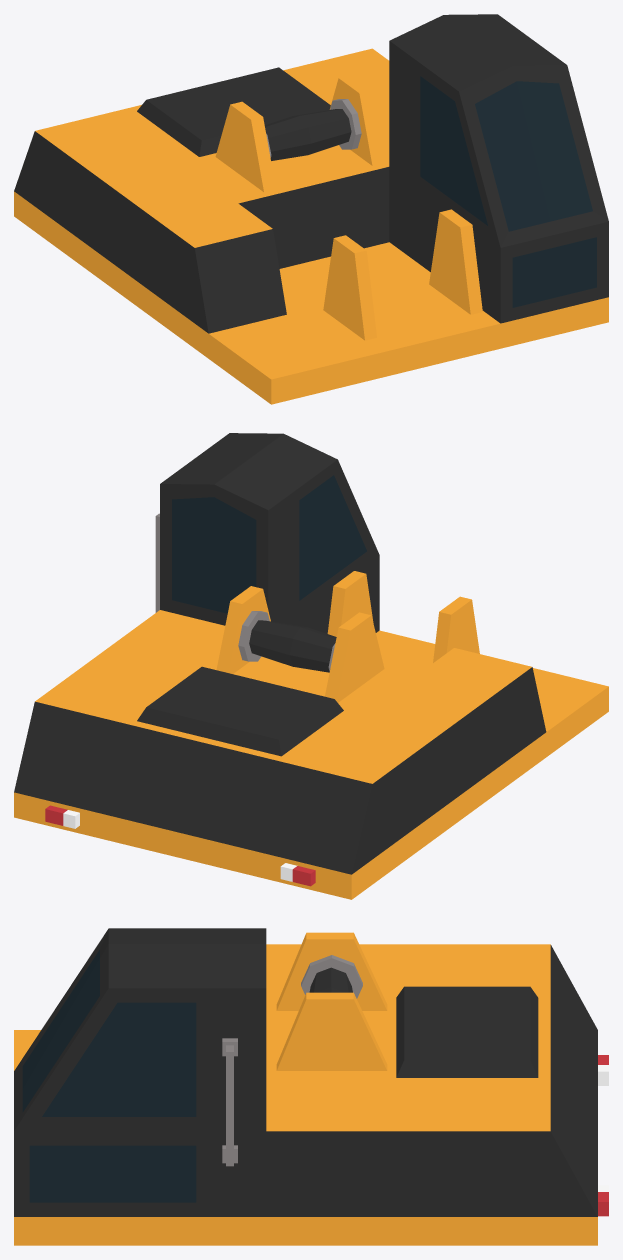
Rendered from crane-crawler-base.glb.
3 views of the same model, one above another, from view 1: azimuth 30°, elevation 25°; view 2: azimuth 150°, elevation 25°; view 3: azimuth 270°, elevation 25° (orthographic). The views are drawn at different scales.
Visible parts, largest first — view 1: crane-crawler-base; view 2: crane-crawler-base; view 3: crane-crawler-base.
Boxes of the visible parts, <box> form: crane-crawler-base: <box>14,14,608,404</box>; crane-crawler-base: <box>14,433,608,899</box>; crane-crawler-base: <box>14,928,608,1245</box>.
Size of the model in its own units: 2.96 by 1.9 by 3.77.
1 material, 1 textured.
